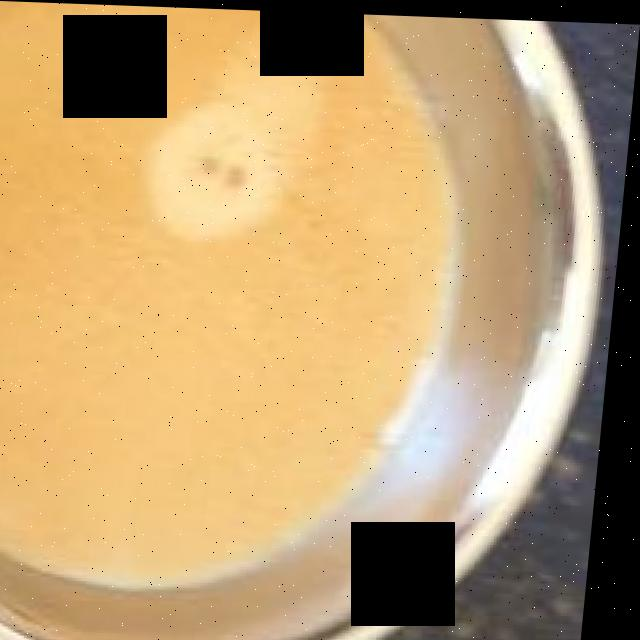coffee-with-caffeine: (0, 12, 461, 580), (0, 12, 453, 577)
